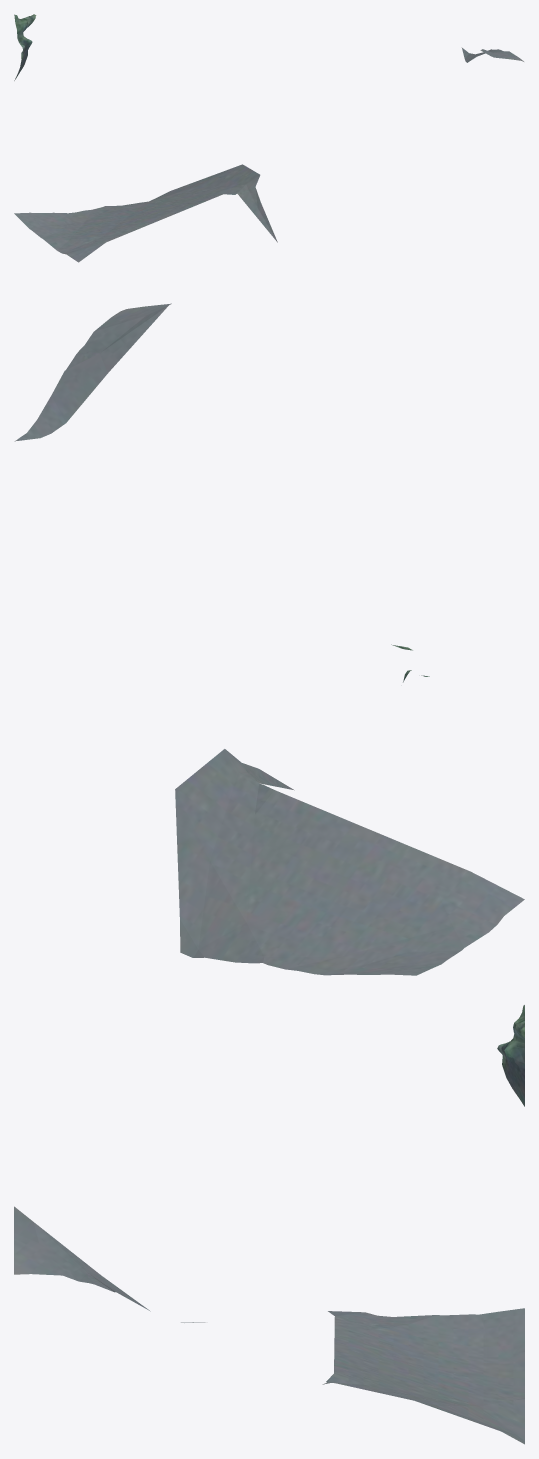
Rendered from Tile__000__006_L21_0000000.glb.
The picture shows the model from 3 angles, top to bottom: view 1: azimuth 30°, elevation 25°; view 2: azimuth 150°, elevation 25°; view 3: azimuth 270°, elevation 25°; orthographic projection. The views are drawn at different scales.
Visible parts, largest first — view 1: root; view 2: root; view 3: root.
Boxes of the visible parts, x1,y1,x2,y2 form: root: [14, 14, 523, 262]; root: [14, 303, 524, 975]; root: [14, 1005, 524, 1444].
Bounding box in the file's own units: 30.42 × 19.84 × 25.63.
1 material, 1 textured.
